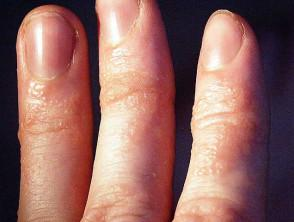Eczema: (198, 84, 237, 179), (21, 83, 81, 137), (101, 71, 168, 118)
